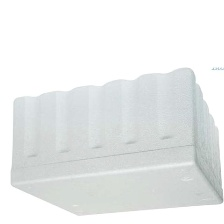foam_box: (6, 64, 223, 219)
